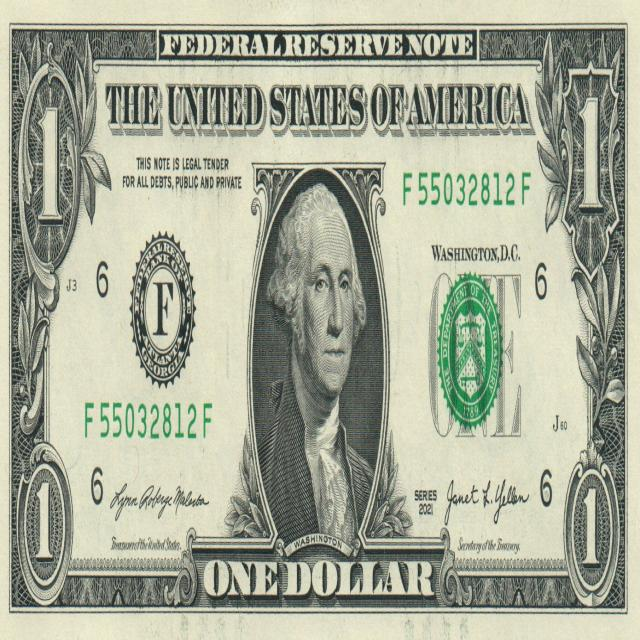SerialNumber: (85, 403, 212, 439), (403, 172, 530, 206)
